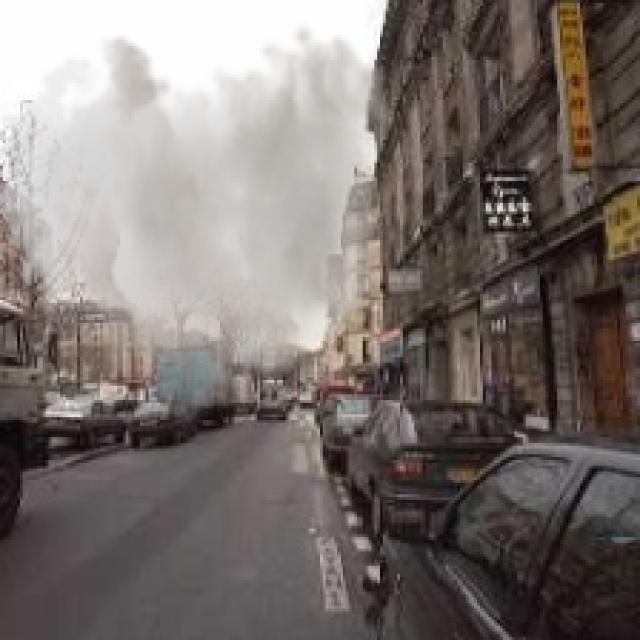Smoke: (2, 20, 392, 429)
